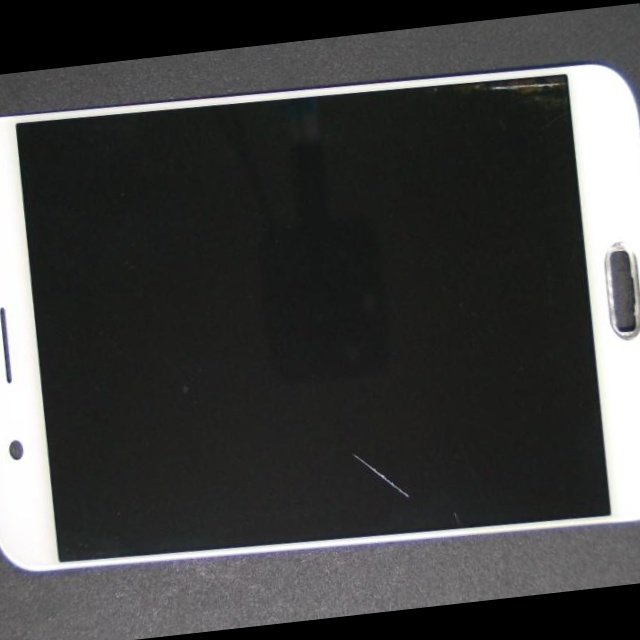scratch: (212, 268, 629, 627)
